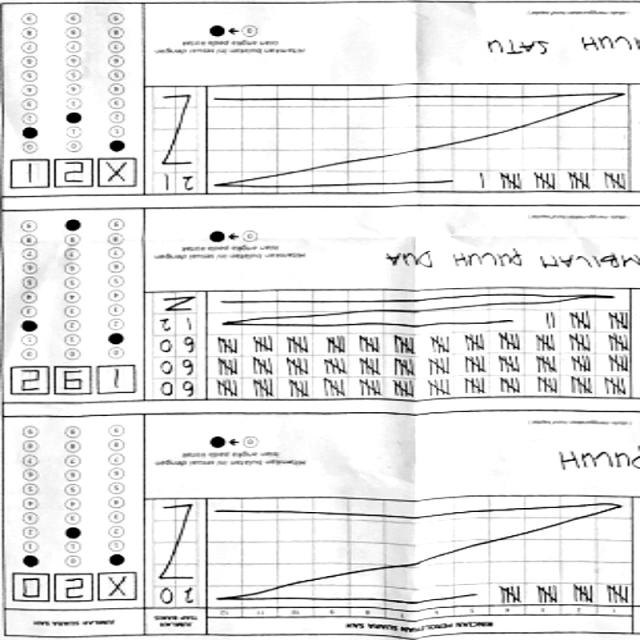Suara: (5, 364, 147, 394), (14, 571, 140, 602), (9, 160, 138, 190)
